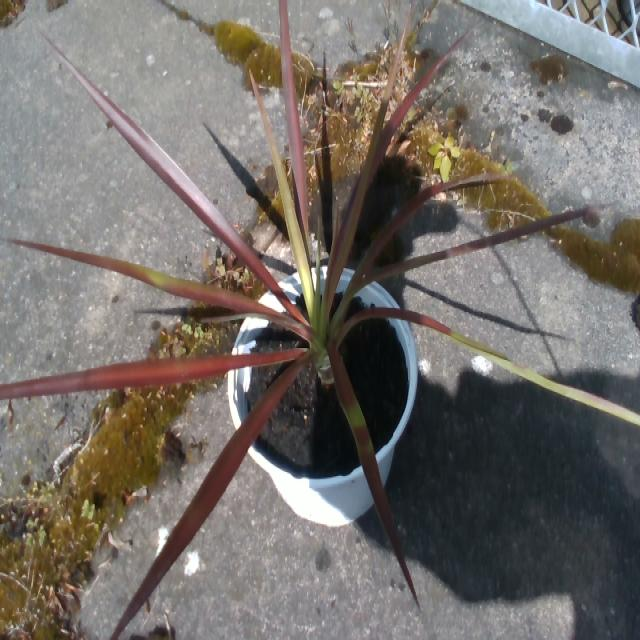Yucca-aloifolia: (42, 33, 301, 319), (110, 356, 310, 639), (345, 307, 639, 425), (321, 16, 409, 321), (329, 347, 418, 603), (23, 241, 274, 317), (362, 207, 601, 283), (356, 173, 509, 275), (0, 351, 302, 399), (252, 76, 313, 304), (372, 52, 449, 169), (279, 0, 305, 236)
